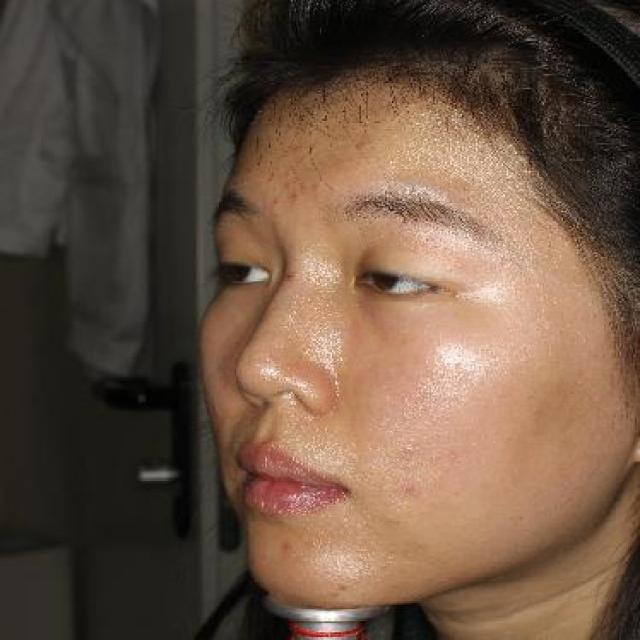darkspot: (274, 532, 296, 560), (349, 137, 373, 154), (276, 180, 294, 194), (288, 140, 305, 154), (294, 180, 310, 194), (308, 180, 325, 191), (284, 189, 298, 202)
nodules: (332, 580, 354, 592)
